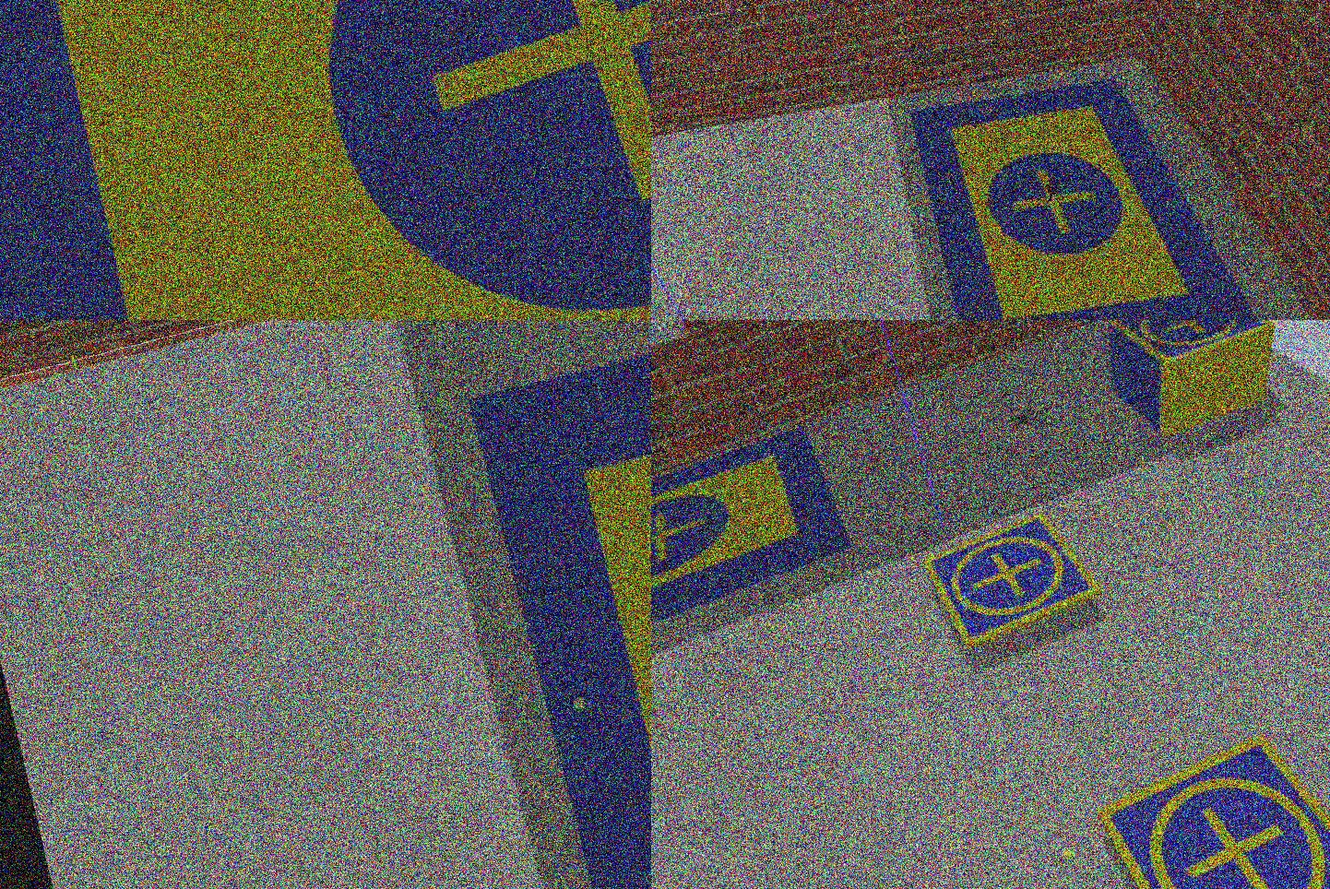large_base: (1, 1, 652, 321), (463, 321, 652, 889), (906, 41, 1266, 321), (652, 421, 869, 692)
small_base: (1094, 713, 1330, 889), (918, 504, 1109, 653), (1106, 321, 1278, 378)
